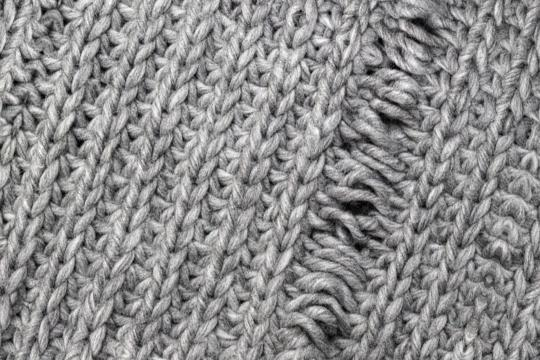slub: (286, 10, 437, 350)
